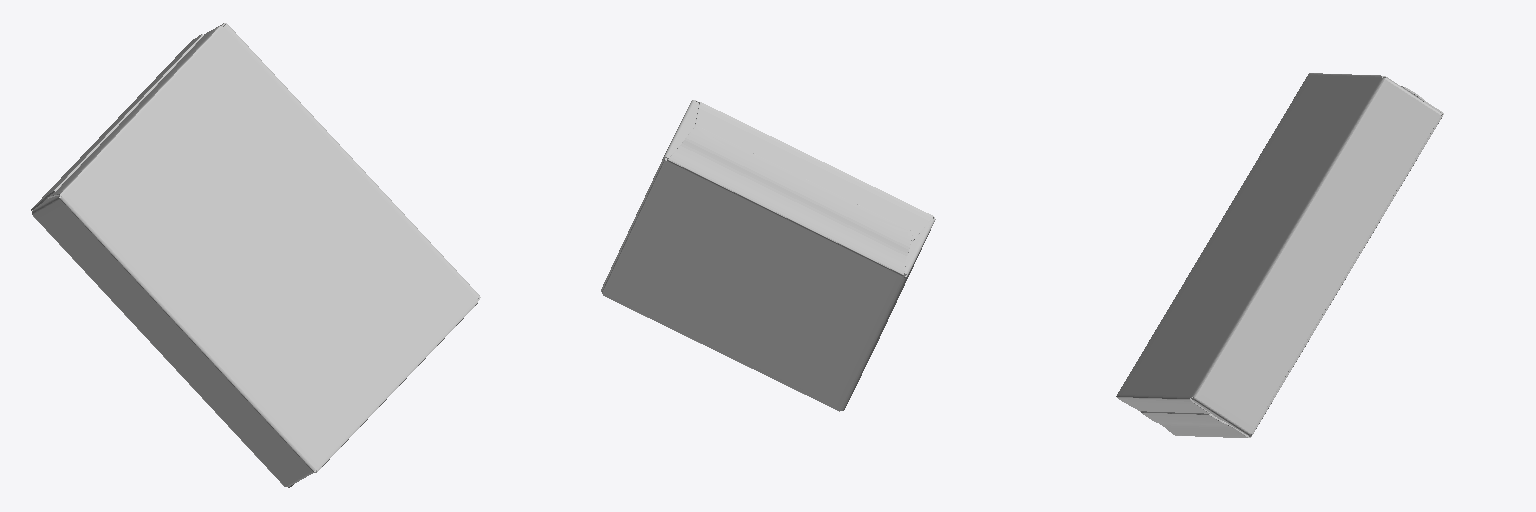
File: box_of_cereal_xyz_2.obj
The picture shows the model from 3 angles: view 1: azimuth 30°, elevation 25°; view 2: azimuth 150°, elevation 25°; view 3: azimuth 270°, elevation 25°; orthographic projection.
Visible parts, largest first — view 1: Box_Box_Box_Box_of_cerealCOL_jpg; view 2: Box_Box_Box_Box_of_cerealCOL_jpg; view 3: Box_Box_Box_Box_of_cerealCOL_jpg.
Boxes of the visible parts, <box> form: Box_Box_Box_Box_of_cerealCOL_jpg: <box>31,23,480,487</box>; Box_Box_Box_Box_of_cerealCOL_jpg: <box>601,100,935,411</box>; Box_Box_Box_Box_of_cerealCOL_jpg: <box>1116,73,1443,437</box>.
Size of the model in its own units: 0.2765 by 0.2749 by 0.2156.